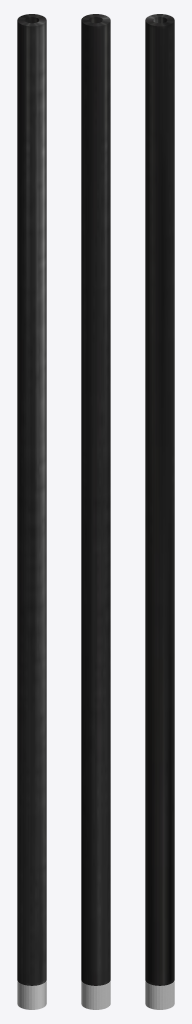
The model's file is LuciusMalfoyStaff.fbx.
3 views of the same model, side by side, from view 1: azimuth 90°, elevation 25°; view 2: azimuth 150°, elevation 25°; view 3: azimuth 270°, elevation 25° (orthographic).
Visible parts, largest first — view 1: Cylinder.002, Cylinder.004; view 2: Cylinder.002, Cylinder.004; view 3: Cylinder.002, Cylinder.004.
Part boxes in pixels (left/top/right/bottom): Cylinder.002: left=17, top=14, right=46, bottom=985; Cylinder.004: left=17, top=980, right=46, bottom=1009; Cylinder.002: left=81, top=14, right=110, bottom=985; Cylinder.004: left=81, top=980, right=110, bottom=1009; Cylinder.002: left=145, top=14, right=174, bottom=985; Cylinder.004: left=145, top=980, right=174, bottom=1009.
Size of the model in its own units: 144 by 5347 by 144.
2 materials, 2 textured.
